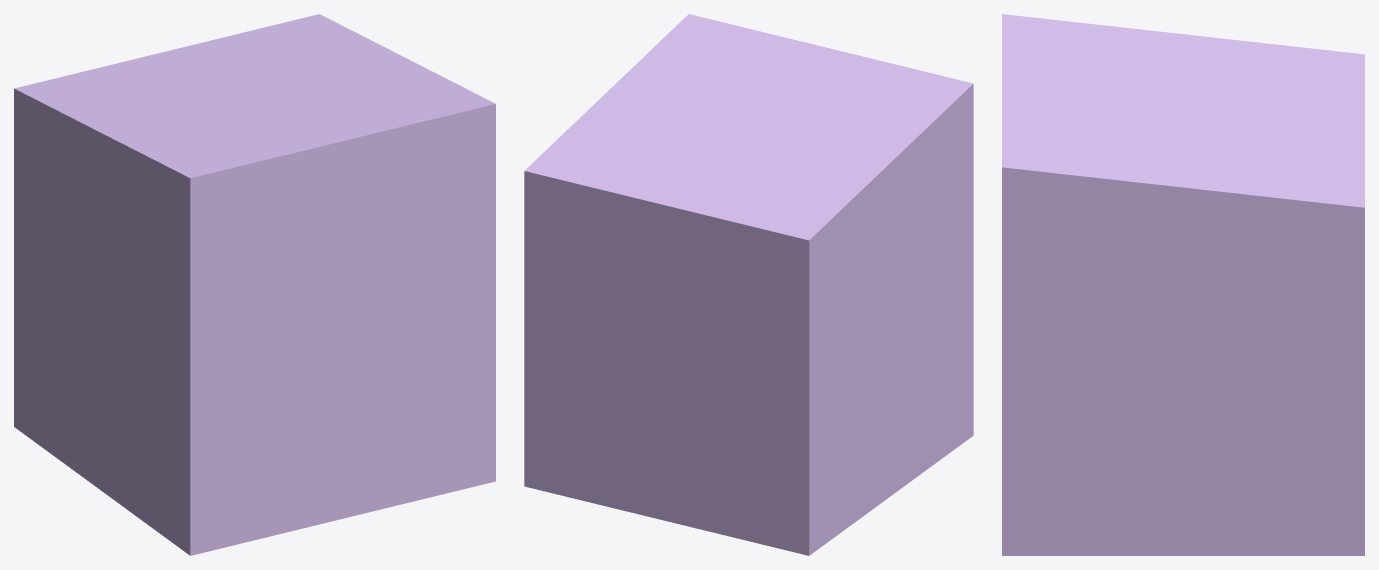
The model's file is veranda_3x3_hi.fbx.
3 renders of one model, left to right at view 1: azimuth 30°, elevation 25°; view 2: azimuth 150°, elevation 25°; view 3: azimuth 270°, elevation 25°, orthographic. The views are drawn at different scales.
Parts seen in each view (by area): view 1: Model; view 2: Model; view 3: Model.
Part boxes in pixels (<box>): Model: <box>14,14,495,555</box>; Model: <box>524,14,973,555</box>; Model: <box>1002,14,1364,555</box>.
Bounding box in the file's own units: 3000 × 3544 × 3000.
